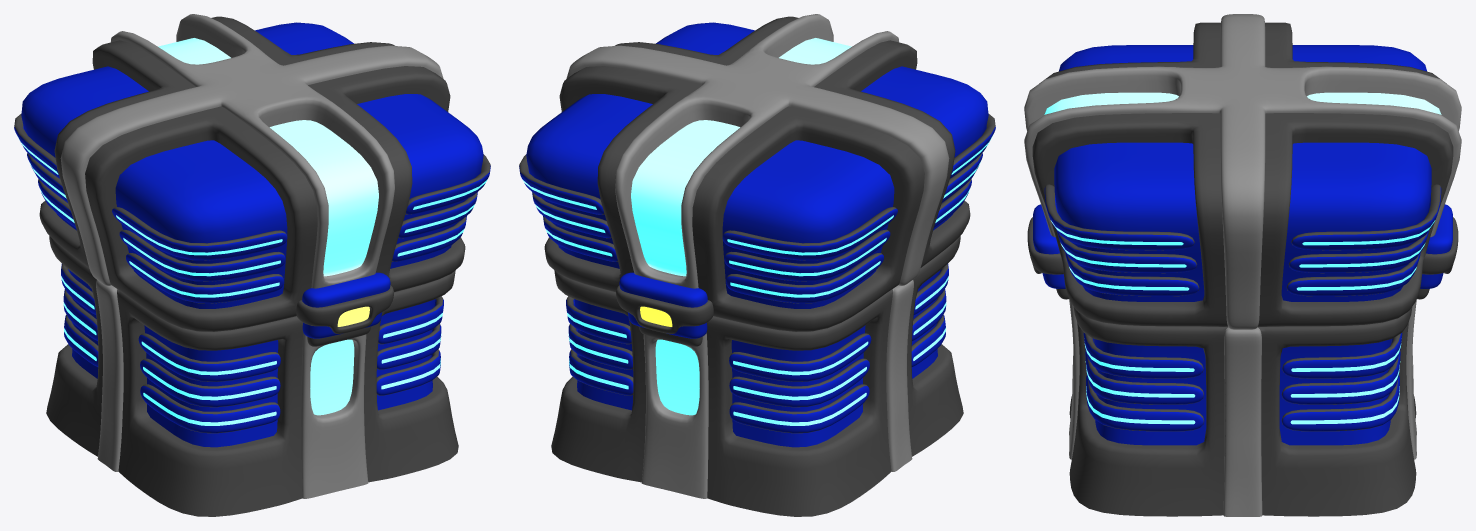
File: PH_mesh_Lootbox_Anim.fbx
3 renders of one model, left to right at view 1: azimuth 30°, elevation 25°; view 2: azimuth 150°, elevation 25°; view 3: azimuth 270°, elevation 25°, orthographic. The views are drawn at different scales.
Parts seen in each view (by area): view 1: mesh_Lootbox_Anim; view 2: mesh_Lootbox_Anim; view 3: mesh_Lootbox_Anim.
Part boxes in pixels (bbox=[...]): mesh_Lootbox_Anim: bbox=[14, 14, 490, 516]; mesh_Lootbox_Anim: bbox=[519, 14, 995, 516]; mesh_Lootbox_Anim: bbox=[1024, 14, 1461, 516].
Bounding box in the file's own units: 1.94 × 1.75 × 1.94.
